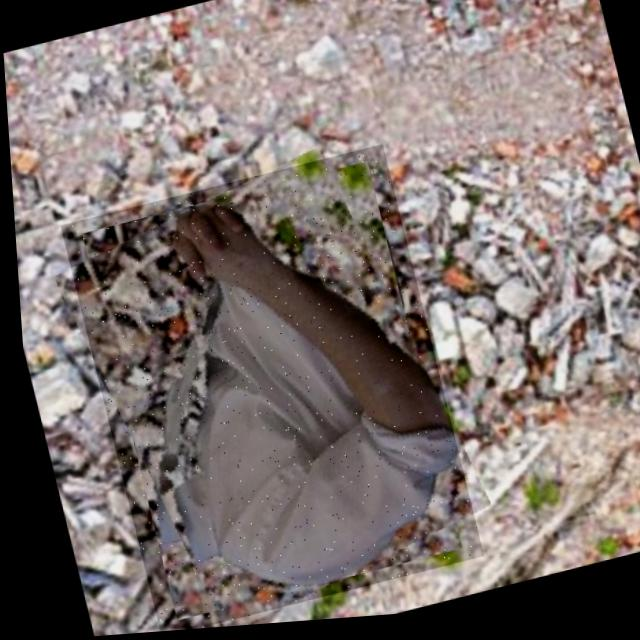Person in Rubble: (53, 144, 478, 637)
